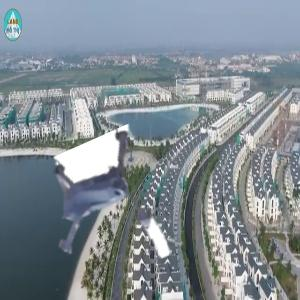drone: (22, 147, 169, 294)
